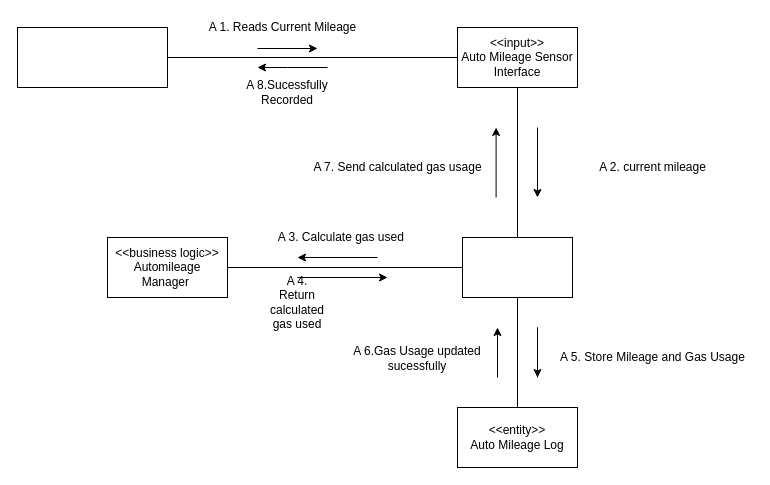
This 770x485 diagram has some shape labels left out. The shapes that lost their labels are listed below. From the top down, each one's centre as x and y in pixels, then its label:
(x=92, y=57): <<external input device>> Auto Milage Sensor
(x=517, y=267): <<state dependent control>> Smart Home System
